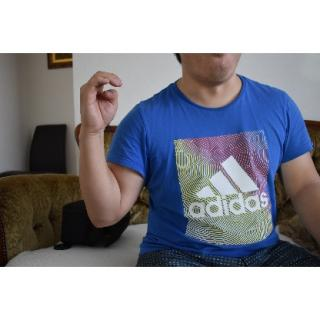JEEM: (72, 68, 127, 136)
